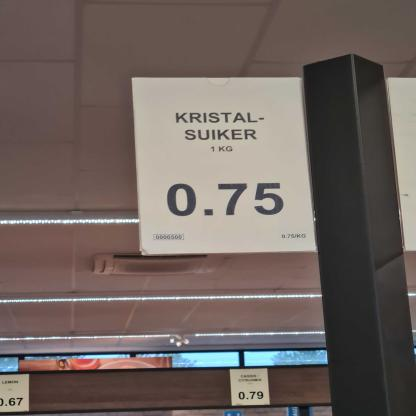prtg: (132, 78, 318, 257)
